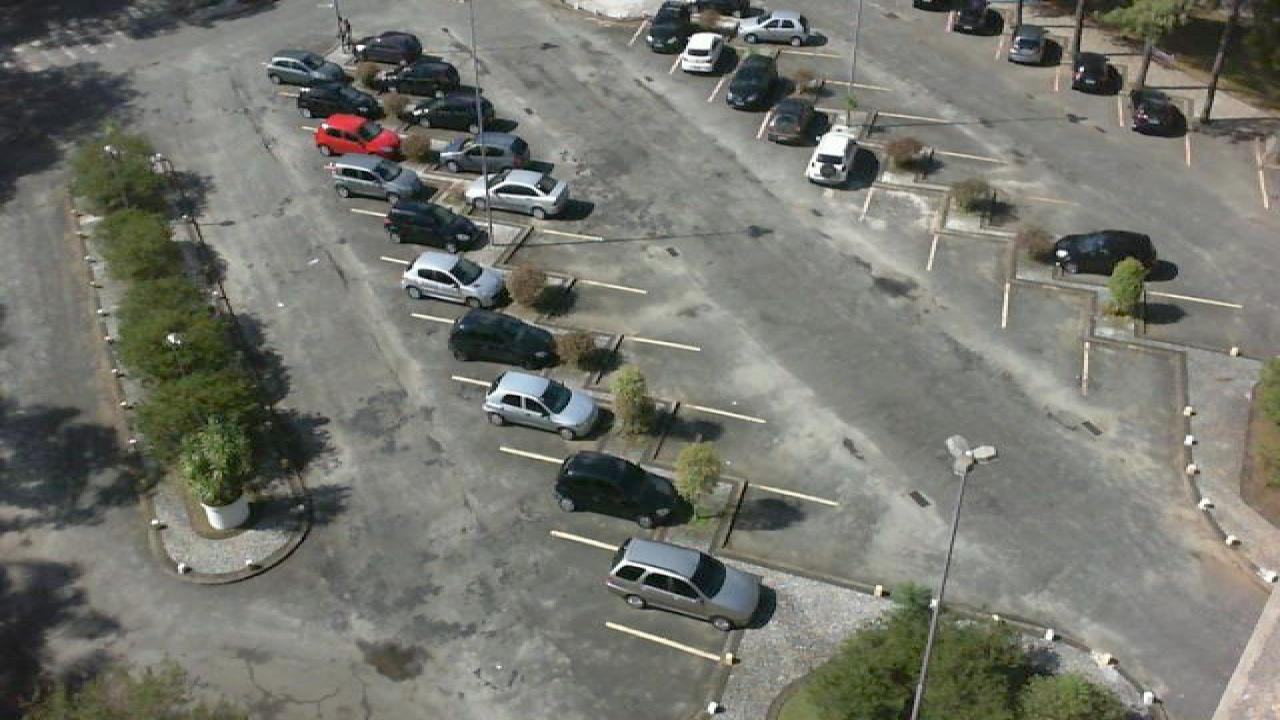Car: (604, 537, 772, 630), (550, 450, 692, 528), (482, 370, 610, 442), (448, 308, 562, 368), (400, 250, 508, 309), (384, 196, 488, 252), (1052, 228, 1164, 280), (466, 168, 572, 219), (324, 158, 424, 204), (312, 112, 404, 158), (432, 130, 528, 174), (400, 87, 492, 132), (804, 125, 868, 189), (370, 58, 458, 96), (764, 93, 826, 144), (292, 80, 376, 117), (264, 50, 344, 86), (644, 1, 700, 52), (726, 54, 776, 109), (1128, 89, 1186, 135), (734, 11, 812, 45), (350, 30, 424, 64), (678, 30, 728, 74), (1068, 53, 1118, 94), (1006, 26, 1056, 66), (950, 0, 1000, 35)
